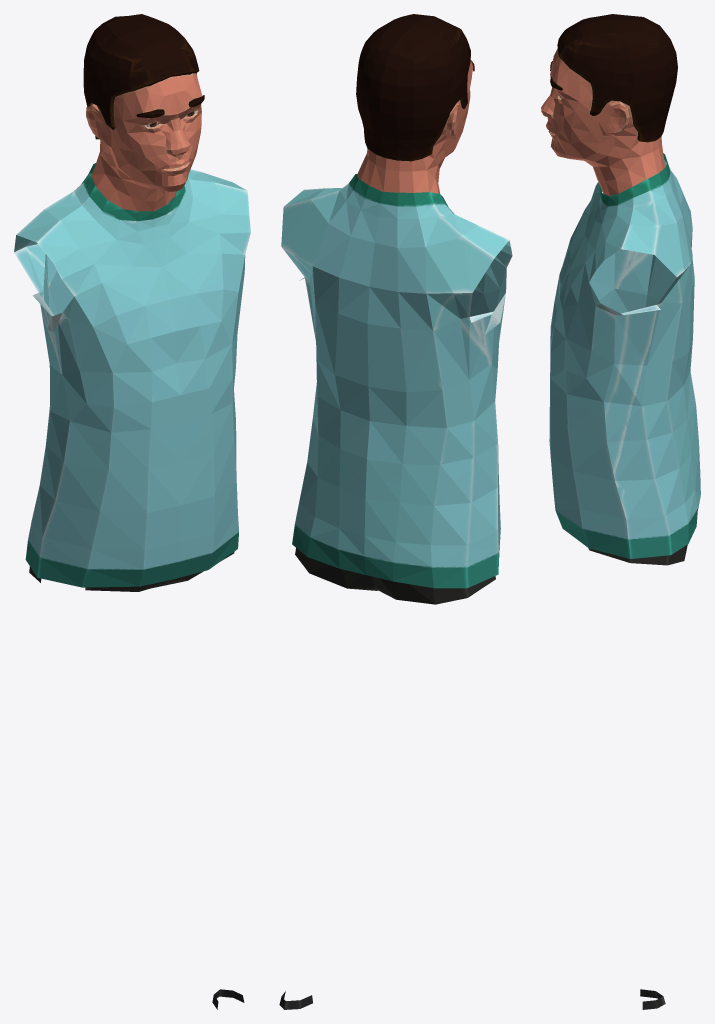
Rendered from cuerpo.fbx.
The picture shows the model from 3 angles, left to right: view 1: azimuth 30°, elevation 25°; view 2: azimuth 150°, elevation 25°; view 3: azimuth 270°, elevation 25°; orthographic projection. The views are drawn at different scales.
Visible parts, largest first — view 1: Human 2; view 2: Human 2; view 3: Human 2.
Boxes of the visible parts, <box> form: Human 2: <box>14,14,250,1009</box>; Human 2: <box>279,14,512,1009</box>; Human 2: <box>541,14,700,1009</box>.
Size of the model in its own units: 36.01 by 158 by 24.42.
